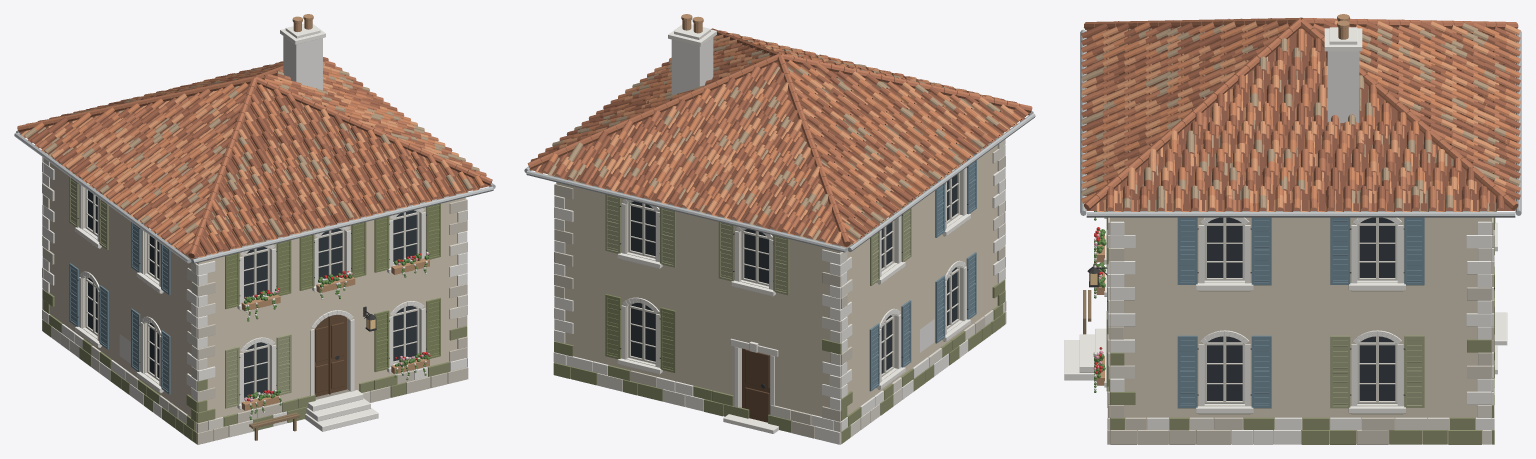
The model's file is DetachedHome.fbx.
3 views of the same model, side by side, from view 1: azimuth 30°, elevation 25°; view 2: azimuth 150°, elevation 25°; view 3: azimuth 270°, elevation 25° (orthographic). The views are drawn at different scales.
Visible parts, largest first — view 1: DetachedHome; view 2: DetachedHome; view 3: DetachedHome.
Boxes of the visible parts, x1,y1,x2,y2 form: DetachedHome: [14, 14, 495, 444]; DetachedHome: [524, 14, 1035, 444]; DetachedHome: [1064, 14, 1521, 444].
Size of the model in its own units: 10.4 by 9.96 by 10.78.
